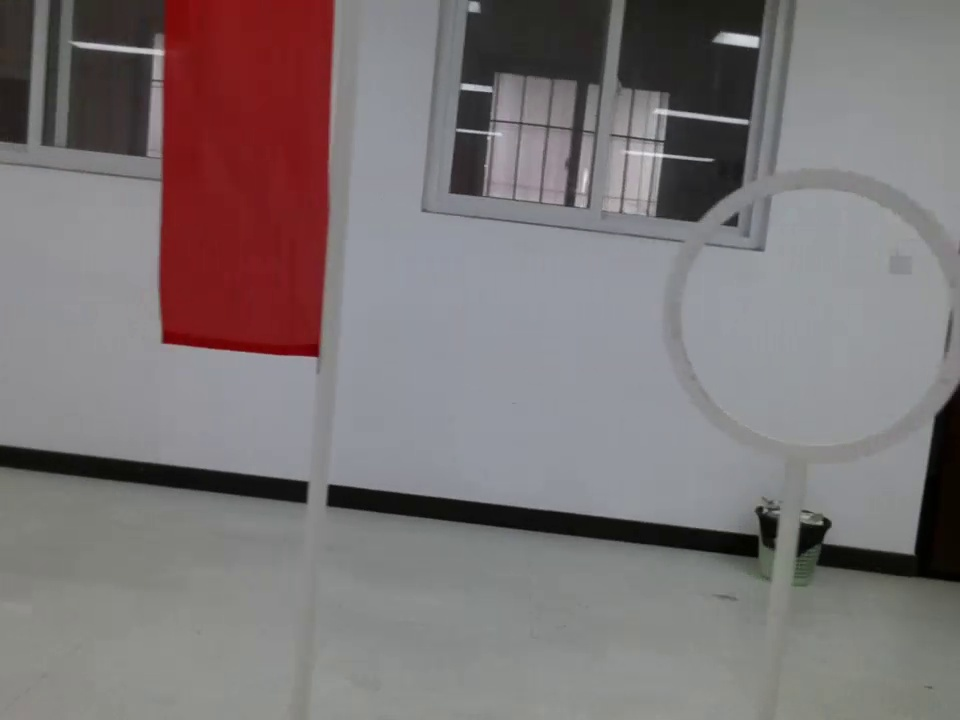qi: (156, 1, 339, 409)
quan: (657, 160, 960, 500)
